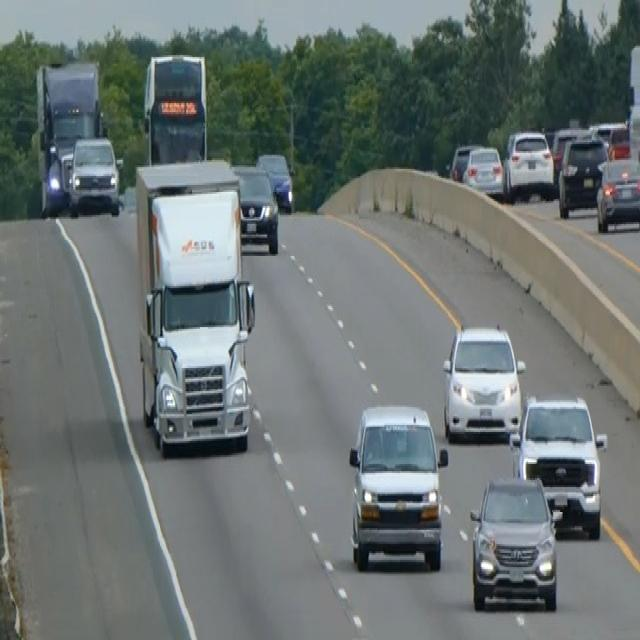bus: (142, 51, 208, 166)
car: (510, 391, 608, 539), (468, 473, 559, 611), (441, 320, 525, 443), (67, 133, 122, 217), (231, 162, 279, 254), (557, 133, 608, 217), (503, 126, 554, 201), (595, 153, 639, 233), (550, 124, 589, 188), (255, 150, 294, 212), (462, 142, 504, 198), (590, 119, 631, 160), (449, 140, 478, 182)
lorry: (134, 158, 256, 457)
minivan: (345, 398, 448, 572)
